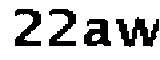2: (10, 4, 43, 51), (44, 5, 77, 52)
a: (81, 15, 113, 52)
w: (114, 14, 160, 49)
